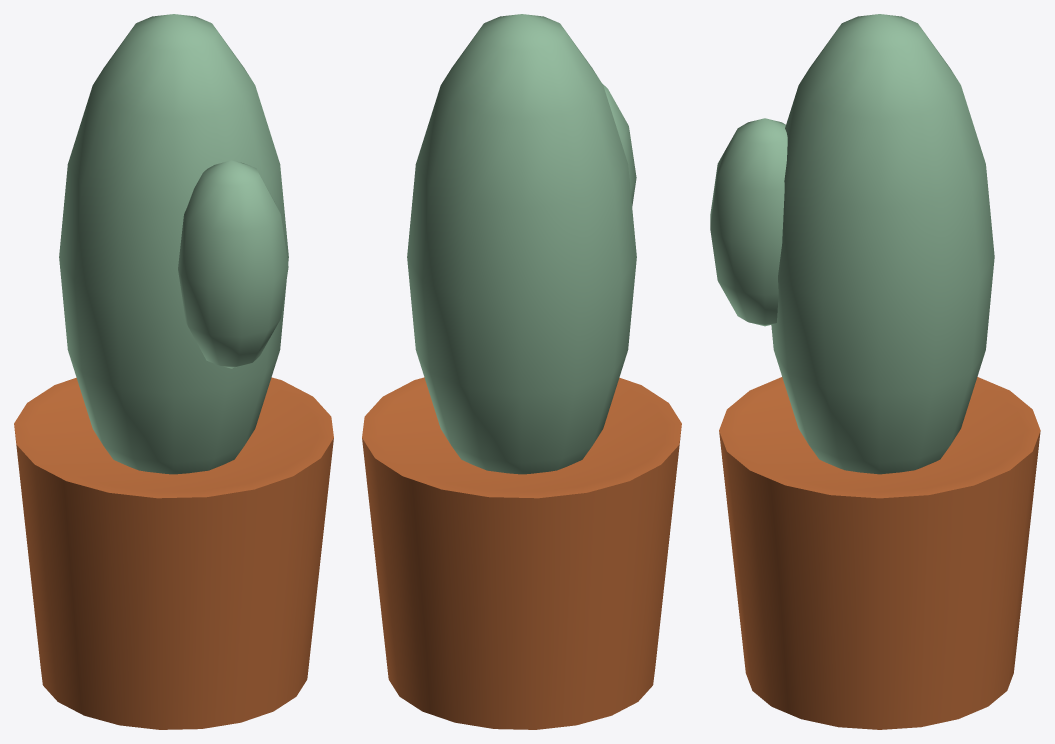
File: cactus_windowsill.fbx
3 views of the same model, side by side, from view 1: azimuth 30°, elevation 25°; view 2: azimuth 150°, elevation 25°; view 3: azimuth 270°, elevation 25° (orthographic).
Parts seen in each view (by area): view 1: cactus_windowsill; view 2: cactus_windowsill; view 3: cactus_windowsill.
Boxes of the visible parts, x1=… form: cactus_windowsill: x1=14, y1=14, x2=333, y2=729; cactus_windowsill: x1=362, y1=14, x2=681, y2=729; cactus_windowsill: x1=710, y1=14, x2=1040, y2=729.
Size of the model in its own units: 0.084 by 0.19 by 0.0863.
